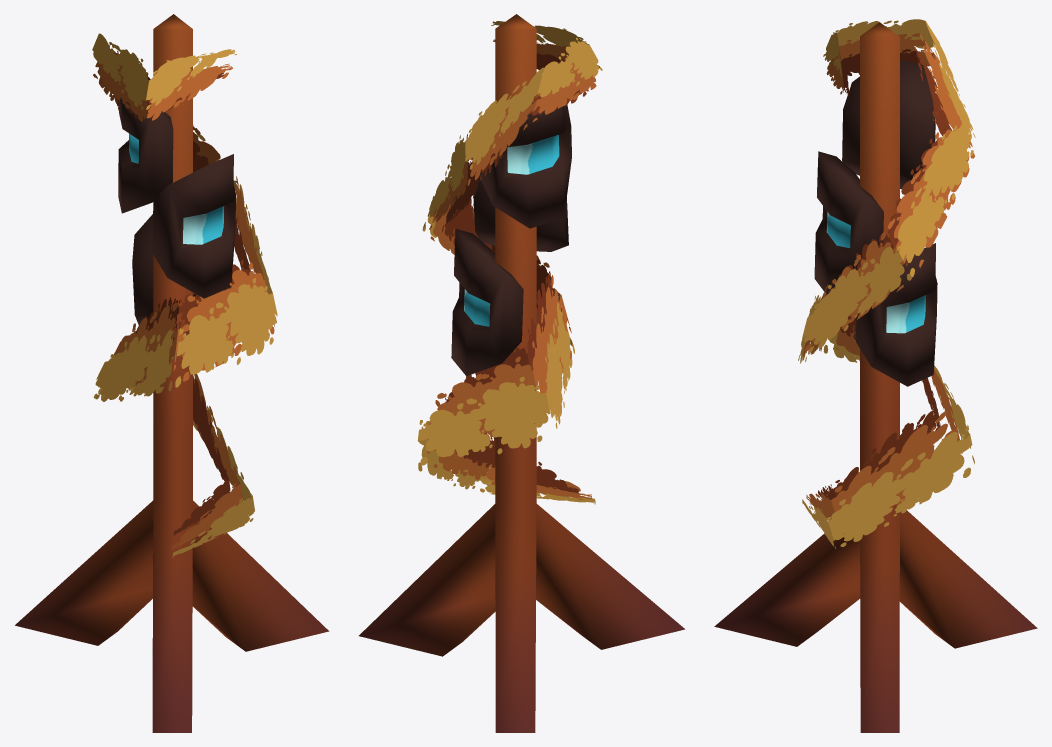
Rendered from MovementDetector.fbx.
The picture shows the model from 3 angles, left to right: view 1: azimuth 30°, elevation 25°; view 2: azimuth 150°, elevation 25°; view 3: azimuth 270°, elevation 25°; orthographic projection.
Parts seen in each view (by area): view 1: Detec; view 2: Detec; view 3: Detec.
Part boxes in pixels (x1=…): Detec: x1=15, y1=14, x2=329, y2=732; Detec: x1=359, y1=14, x2=684, y2=732; Detec: x1=714, y1=19, x2=1037, y2=732.
Size of the model in its own units: 1.31 by 3.31 by 1.54.
